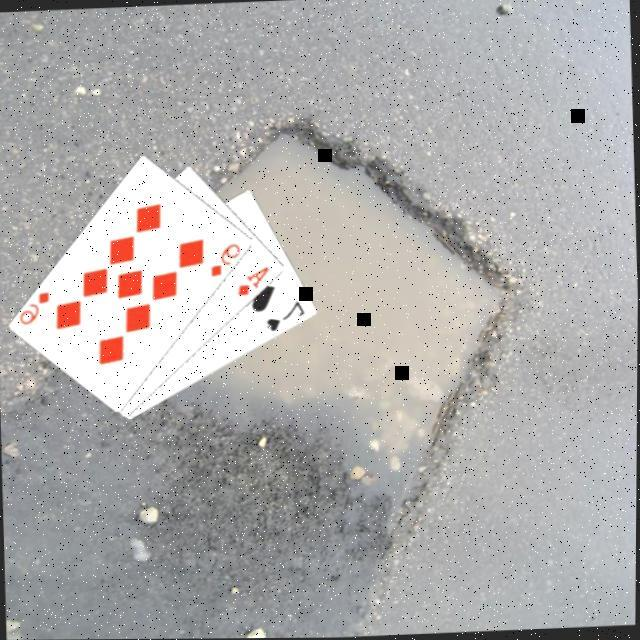7S: (264, 298, 311, 336)
9D: (209, 240, 246, 281), (18, 289, 55, 328)
AD: (235, 263, 274, 300)
